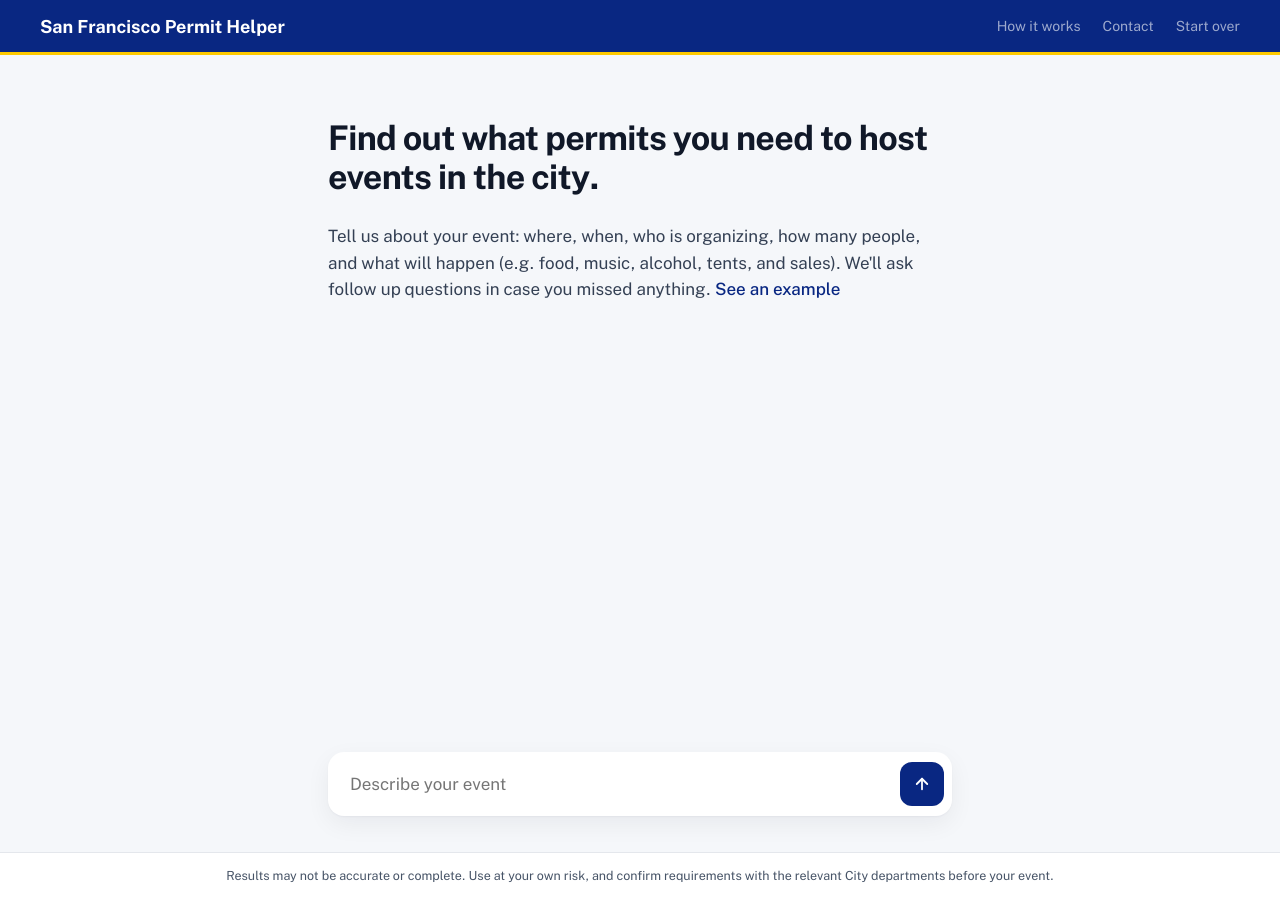
Scenario: App › toasts a failed request
Type "hi" into the text box named "Message" at (620, 784), box [350,760,890,808]
Then press Enter
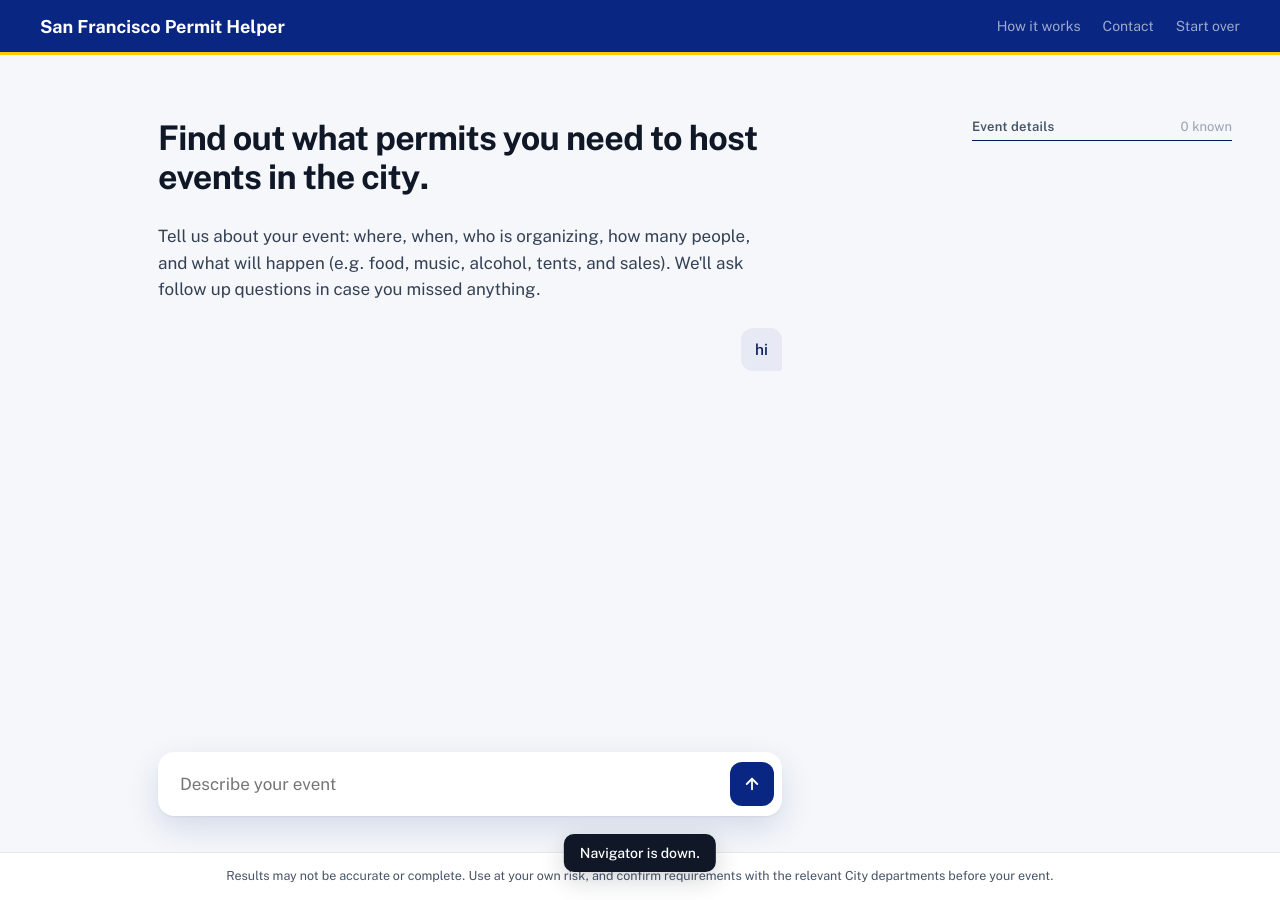
Expected: the text "Navigator is down." is shown, [564,834,716,872]
